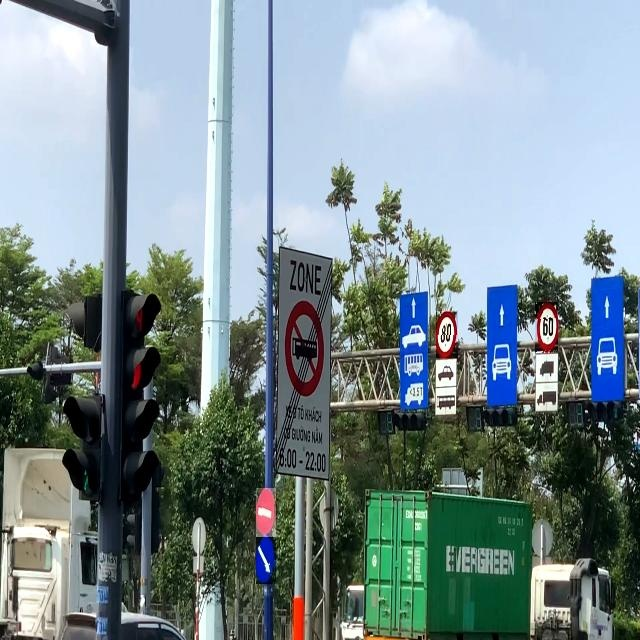bien_chi_dan: (535, 302, 558, 352), (436, 312, 458, 358), (256, 488, 276, 537), (256, 536, 276, 584)
